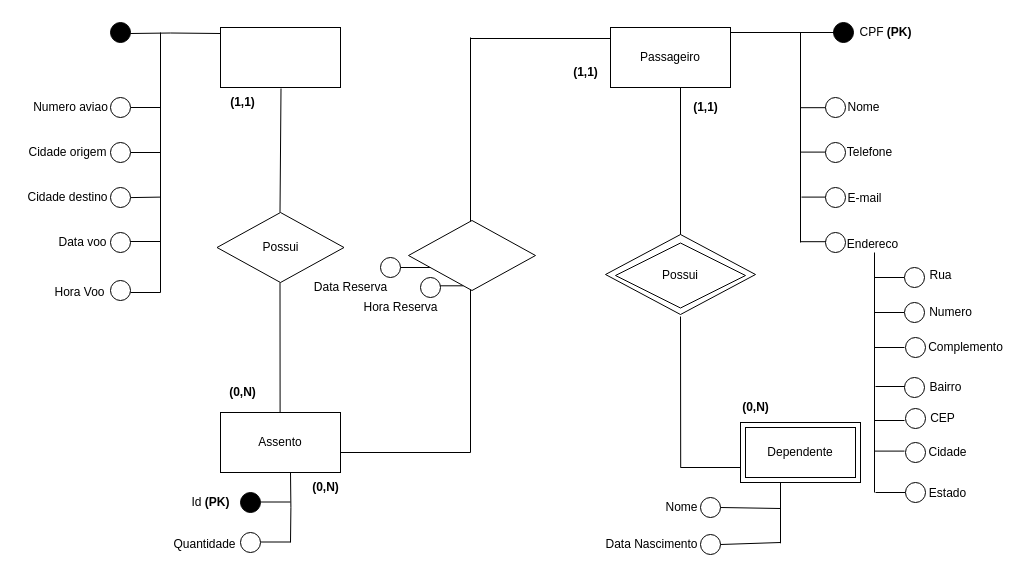
Image size: 1032x576. Some labels were removed from this diagram. The shapes that lost their labels are listed below. From the top down, each one's centre as x and y in pixels, then its label:
At point 280,57: "Voo".
At point 472,255: "Reserva_assento".
